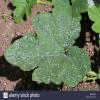Squash Powdery mildew leaf: (3, 9, 89, 88)
